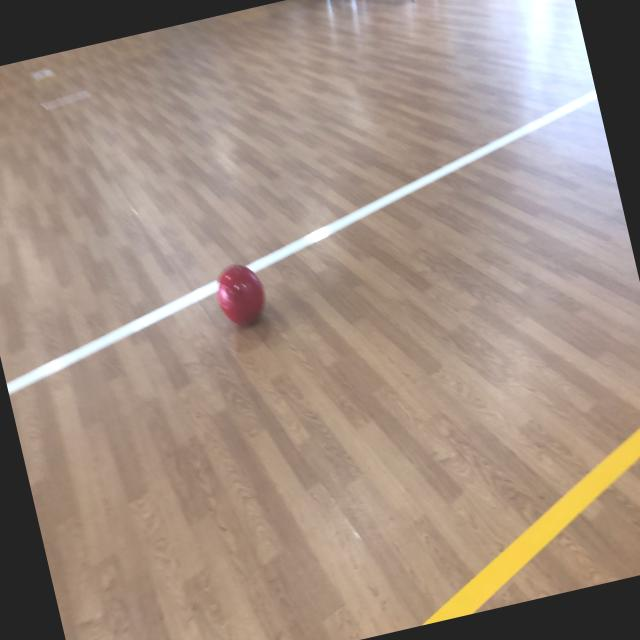red_ball: (212, 260, 270, 332)
